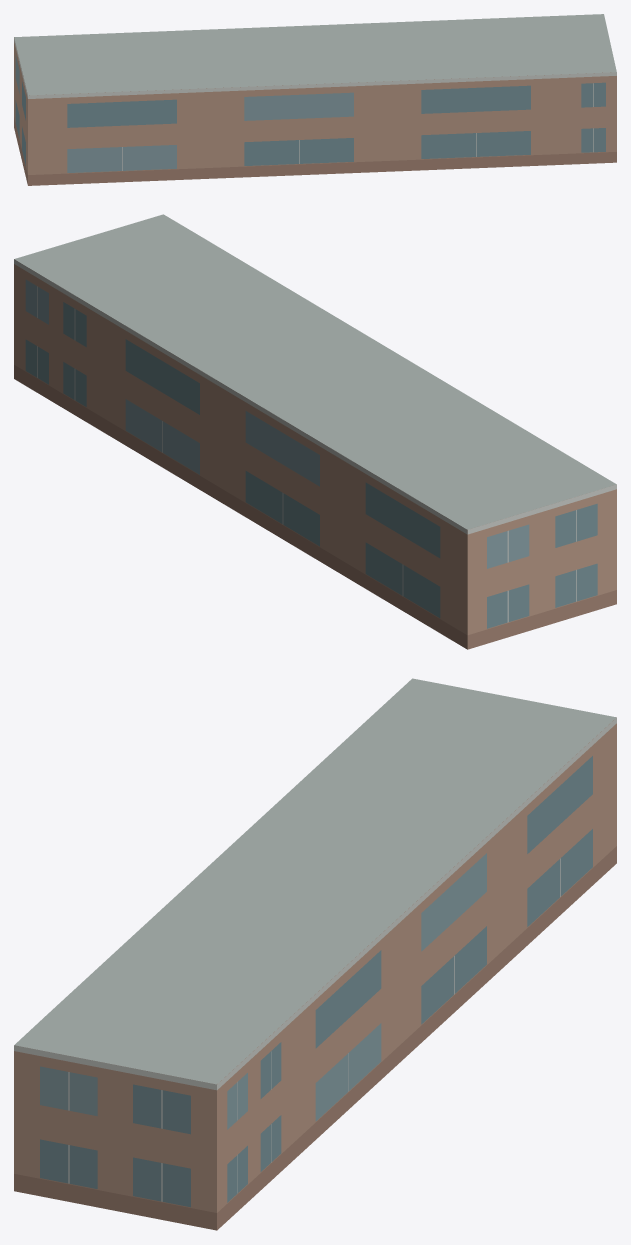
File: survey-upis-32491909.glb
3 views of the same model, one above another, from view 1: azimuth 30°, elevation 25°; view 2: azimuth 150°, elevation 25°; view 3: azimuth 270°, elevation 25° (orthographic). The views are drawn at different scales.
Visible parts, largest first — view 1: survey-upis-32491909.tmp; view 2: survey-upis-32491909.tmp; view 3: survey-upis-32491909.tmp.
Part boxes in pixels (x1=…): survey-upis-32491909.tmp: x1=14, y1=14, x2=616, y2=185; survey-upis-32491909.tmp: x1=14, y1=214, x2=616, y2=649; survey-upis-32491909.tmp: x1=14, y1=678, x2=616, y2=1230.
Size of the model in its own units: 36.41 by 6.1 by 22.84.
